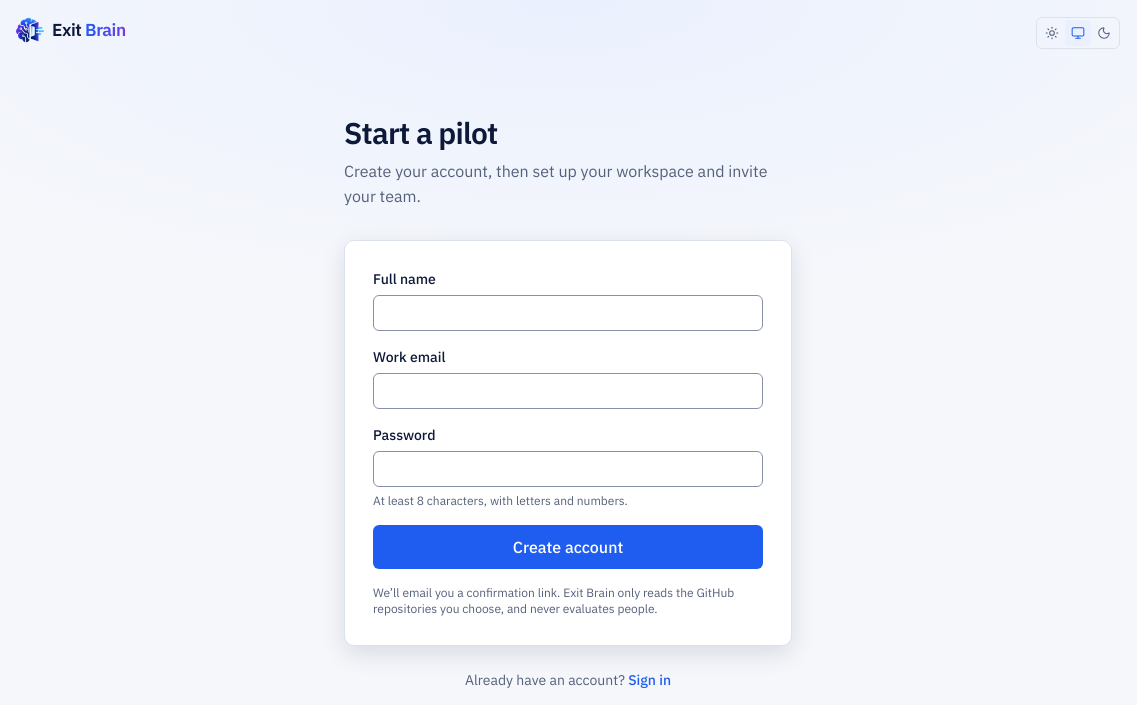
Scenario: auth portal › sign-up enforces the password policy, then shows check-email
Type "Asha Menon" into the field labelled "Full name" at (568, 313), box 373,295 -> 763,331
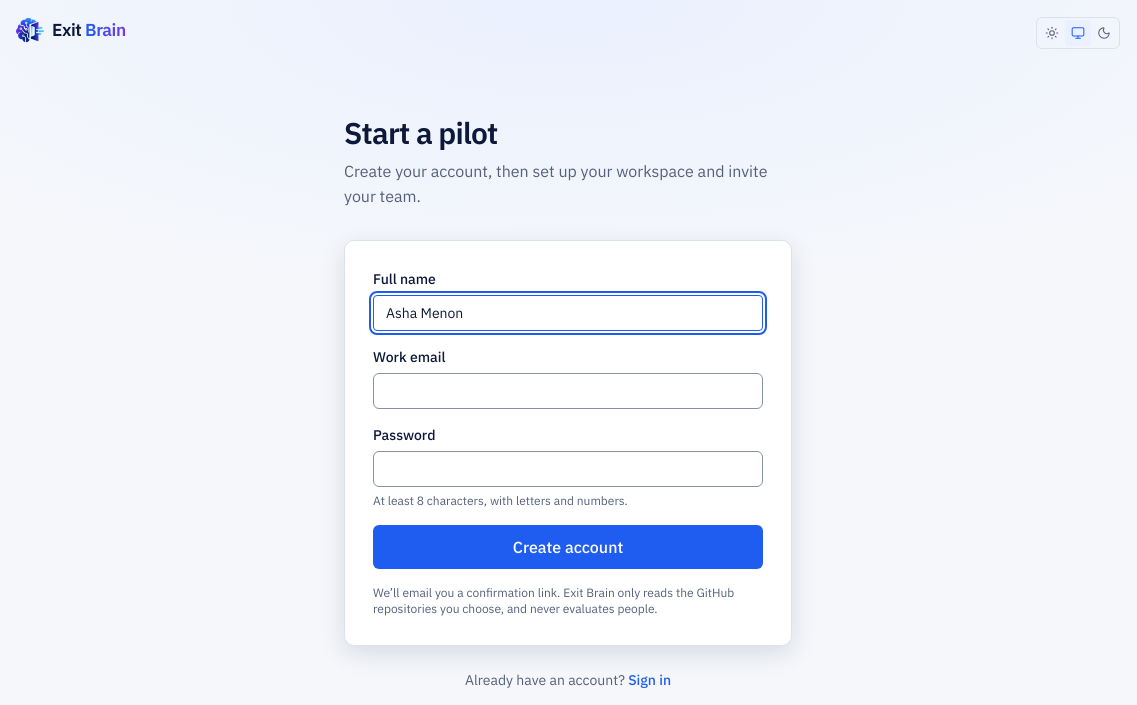
Type "asha@example.com" into the field labelled "Work email" at (568, 391), box 373,373 -> 763,409
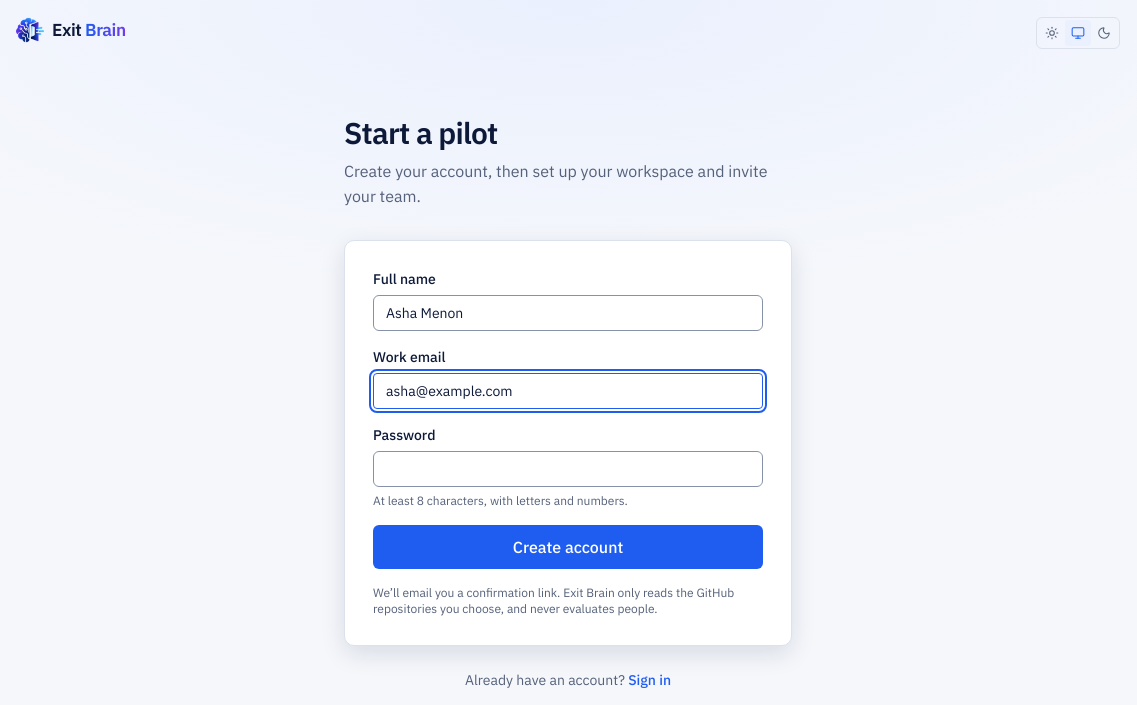
Type "onlyletters" into the password field labelled "Password" at (568, 469), box 373,451 -> 763,487
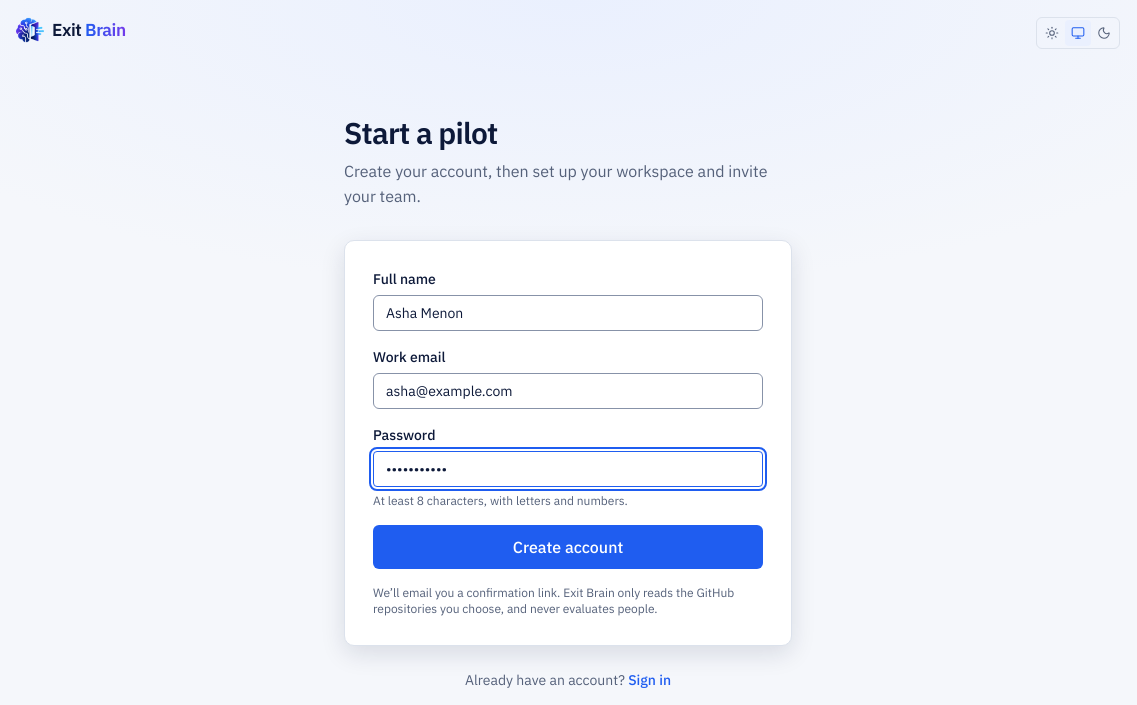
Click the button "Create account" at (568, 547), box 373,525 -> 763,569
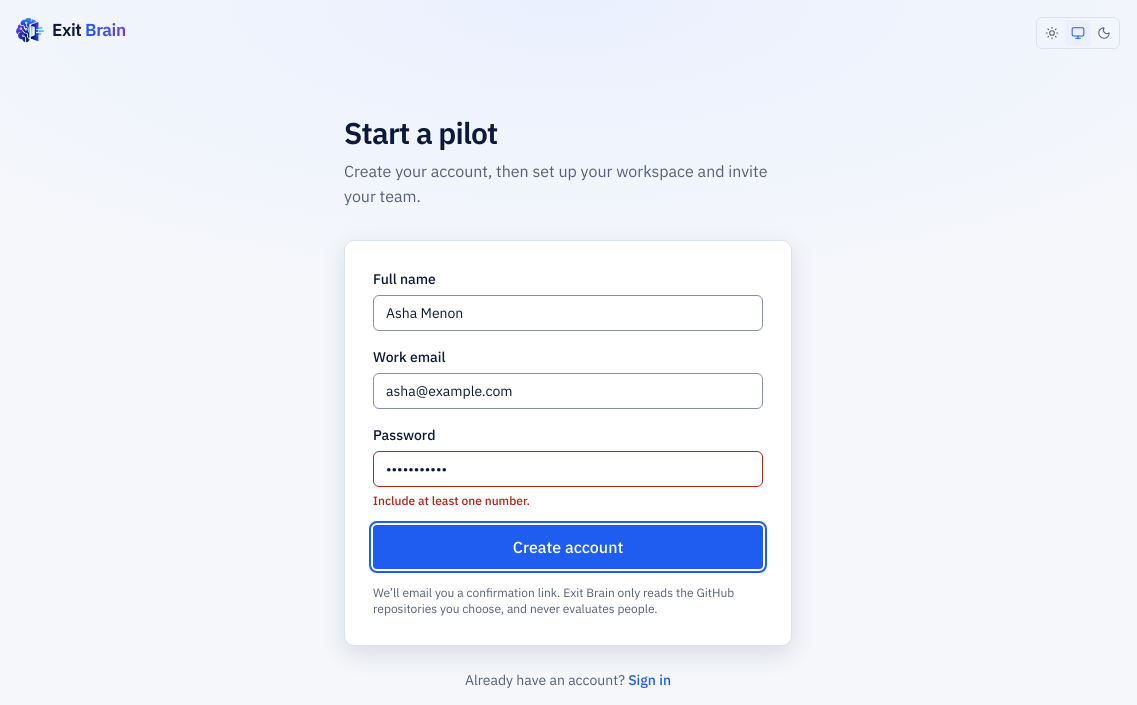
Check: the text "Include at least one number." is shown, box 373,493 -> 530,508
Type "letters123" into the password field labelled "Password" at (568, 469), box 373,451 -> 763,487
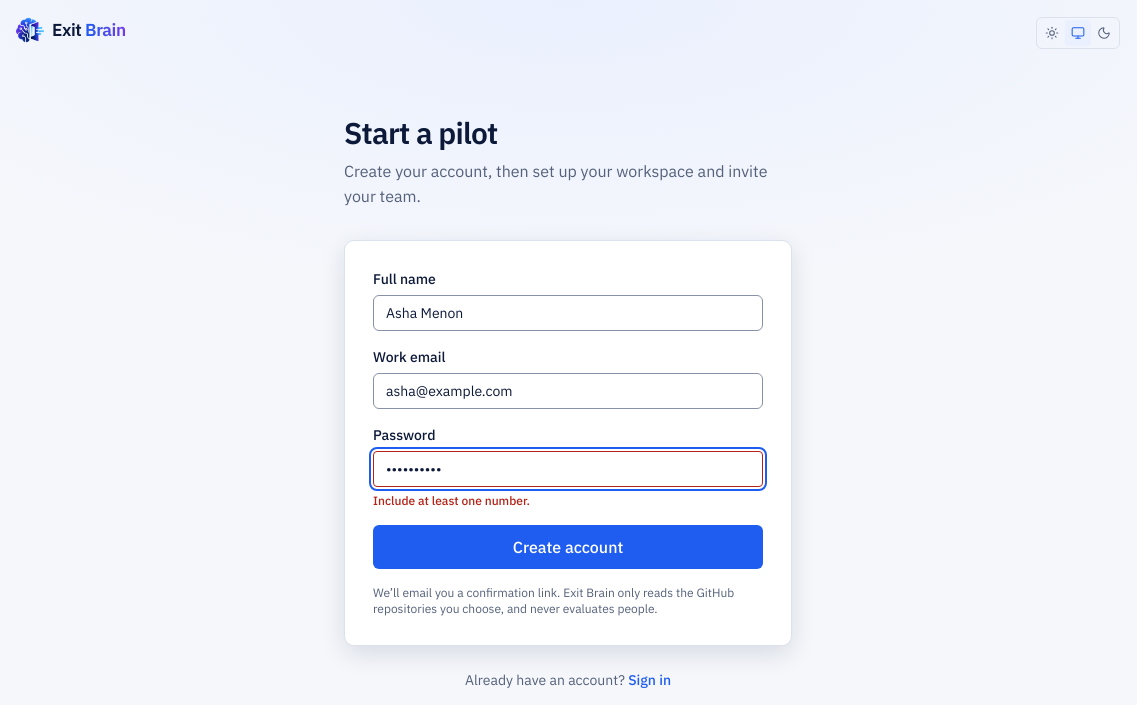
Click the button "Create account" at (568, 547), box 373,525 -> 763,569
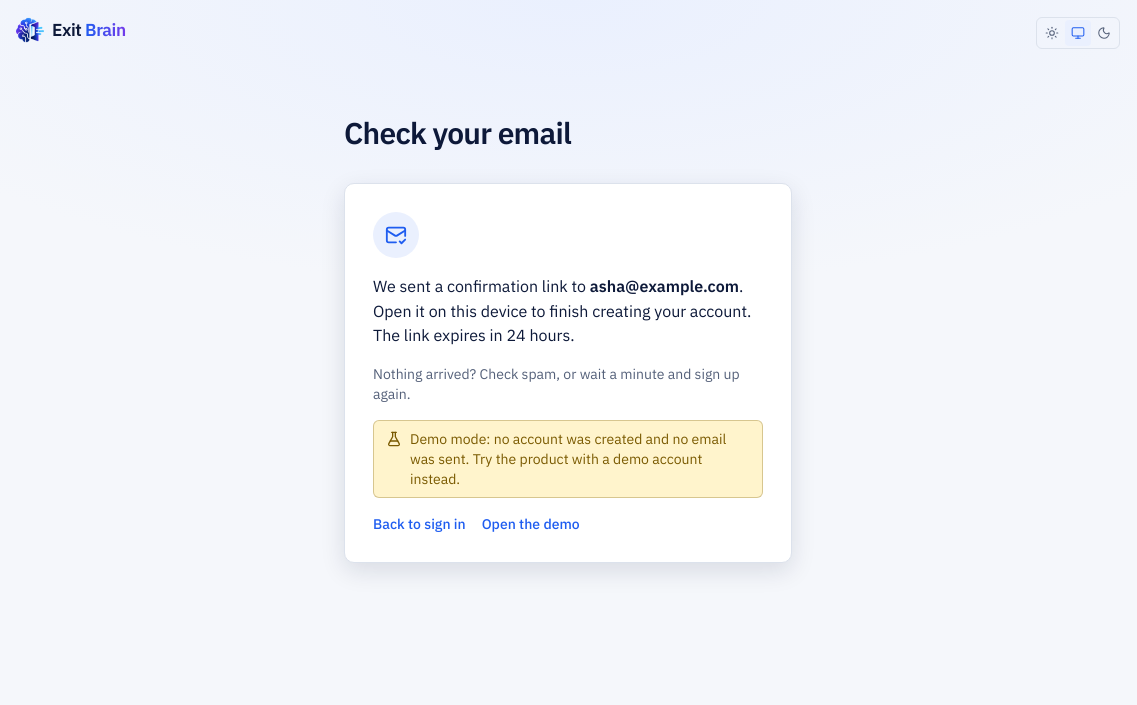
Check: the heading "Check your email" is shown, box 344,113 -> 571,152
Check: the text "asha@example.com" is shown, box 590,276 -> 739,296
Check: the text "no account was created" is shown, box 410,430 -> 726,488
